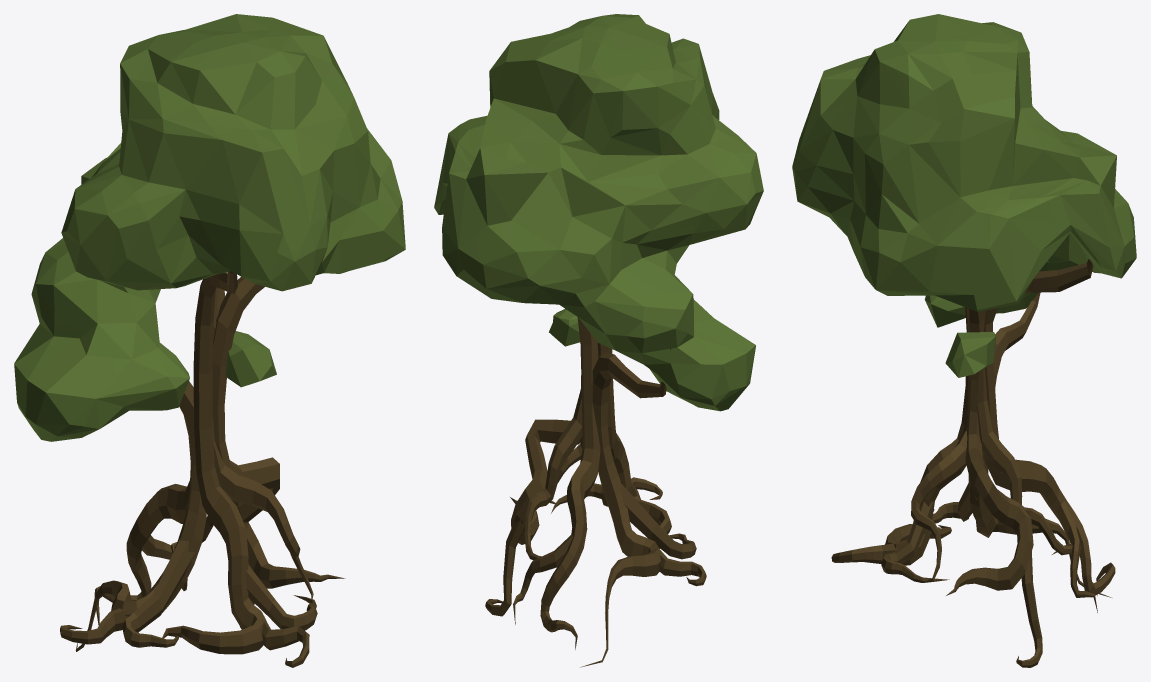
Rendered from DarkWoodDecorationLargeTreeWithLeaveSingleCrown4.fbx.
The picture shows the model from 3 angles, left to right: view 1: azimuth 30°, elevation 25°; view 2: azimuth 150°, elevation 25°; view 3: azimuth 270°, elevation 25°; orthographic projection. The views are drawn at different scales.
Parts seen in each view (by area): view 1: Canopy, TreeTrunk; view 2: Canopy, TreeTrunk; view 3: Canopy, TreeTrunk.
Boxes of the visible parts, left/top/right/bottom form: Canopy: left=14, top=14, right=405, bottom=441; TreeTrunk: left=60, top=271, right=345, bottom=667; Canopy: left=434, top=14, right=763, bottom=411; TreeTrunk: left=485, top=317, right=706, bottom=667; Canopy: left=792, top=14, right=1136, bottom=377; TreeTrunk: left=831, top=259, right=1115, bottom=667.
Bounding box in the file's own units: 1559 × 2827 × 1498.
